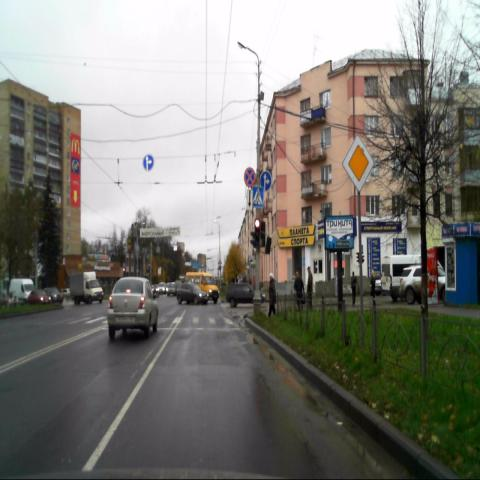3_27: (243, 167, 256, 187)
4_1_4: (260, 171, 271, 192)
